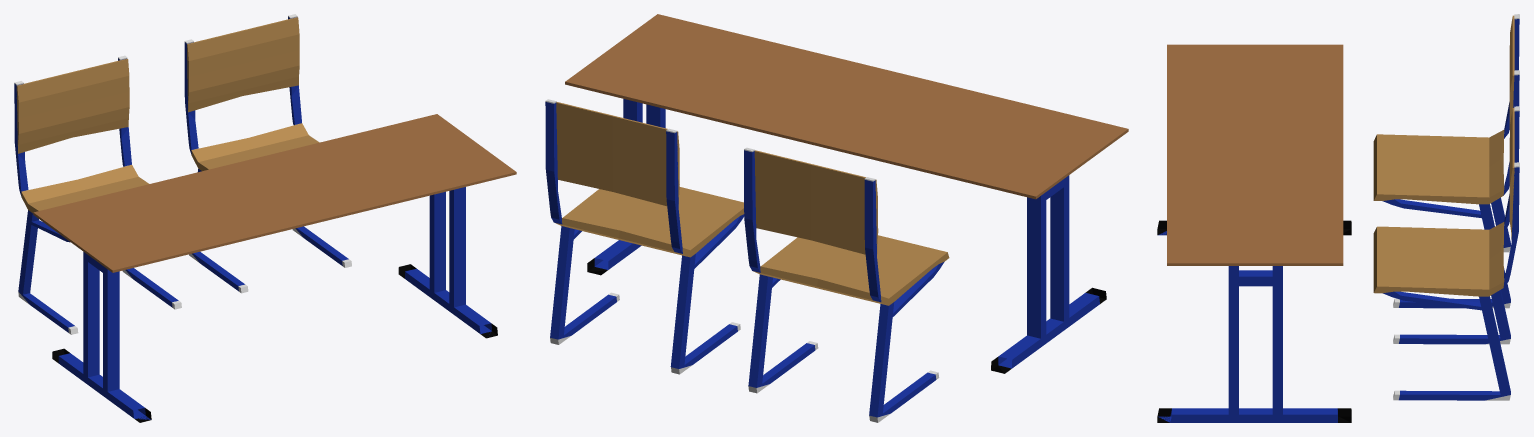
Rendered from schoolChairAndTable.glb.
The picture shows the model from 3 angles, left to right: view 1: azimuth 30°, elevation 25°; view 2: azimuth 150°, elevation 25°; view 3: azimuth 270°, elevation 25°; orthographic projection. The views are drawn at different scales.
Visible parts, largest first — view 1: Cube.002, Cube, Cube.001; view 2: Cube.002, Cube, Cube.001; view 3: Cube.002, Cube.001, Cube.
Boxes of the visible parts, x1=… form: Cube.002: x1=33, y1=114, x2=516, y2=422; Cube: x1=14, y1=55, x2=181, y2=334; Cube.001: x1=184, y1=14, x2=351, y2=293; Cube.002: x1=565, y1=14, x2=1128, y2=373; Cube: x1=744, y1=147, x2=949, y2=422; Cube.001: x1=545, y1=99, x2=744, y2=374; Cube.002: x1=1157, y1=44, x2=1351, y2=422; Cube.001: x1=1373, y1=106, x2=1519, y2=400; Cube: x1=1373, y1=14, x2=1519, y2=308.
Size of the model in its own units: 7.38 by 3.7 by 5.16.
